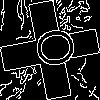O: (25, 25, 78, 72)
